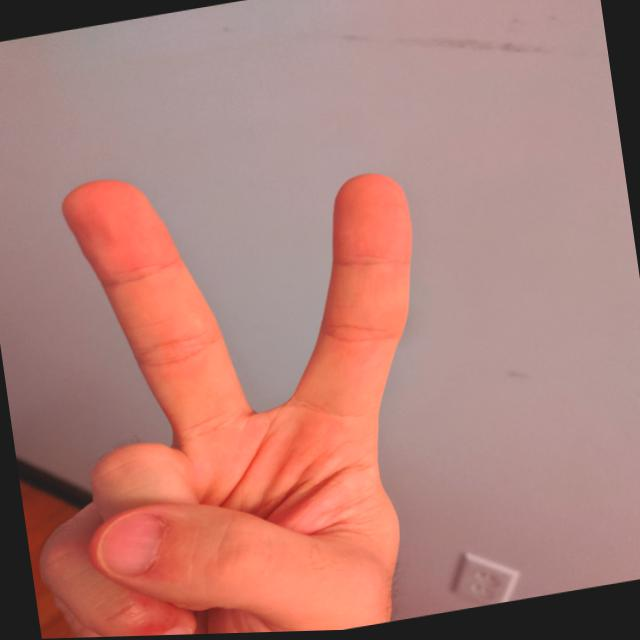V: (0, 123, 479, 639)
